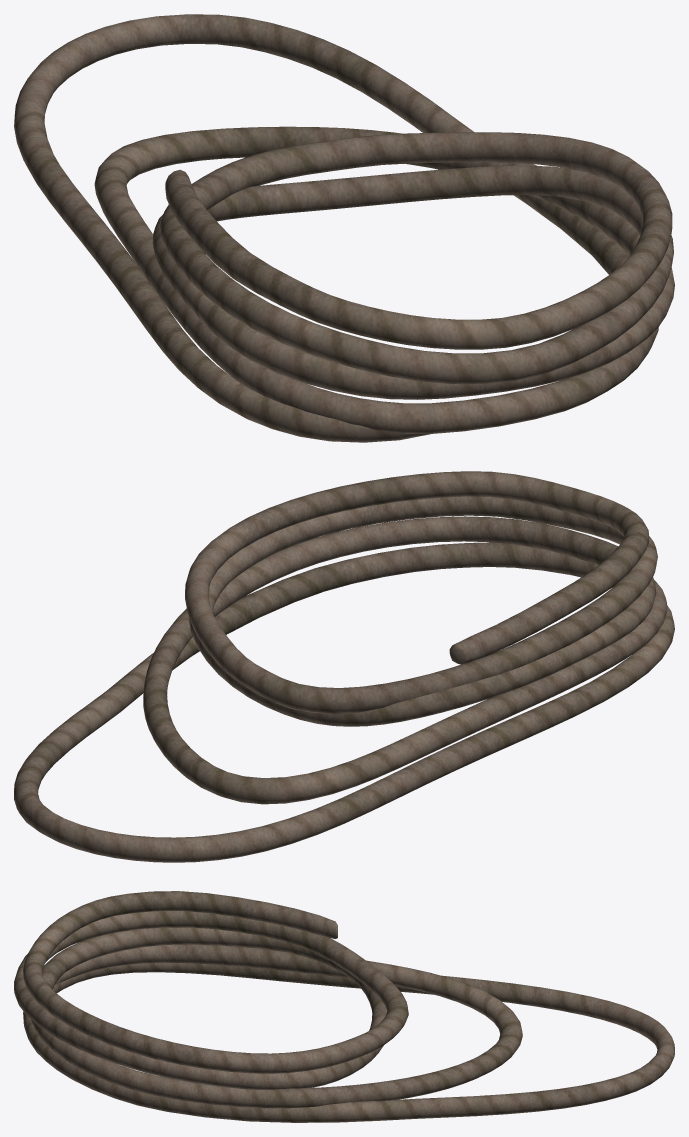
File: Rope_Coil01.fbx
3 views of the same model, one above another, from view 1: azimuth 30°, elevation 25°; view 2: azimuth 150°, elevation 25°; view 3: azimuth 270°, elevation 25° (orthographic). The views are drawn at different scales.
Visible parts, largest first — view 1: Rope_Coil01; view 2: Rope_Coil01; view 3: Rope_Coil01.
Boxes of the visible parts, left/top/right/bottom form: Rope_Coil01: left=14, top=14, right=674, bottom=442; Rope_Coil01: left=14, top=471, right=674, bottom=862; Rope_Coil01: left=14, top=891, right=674, bottom=1122.
Bounding box in the file's own units: 73.16 × 21.49 × 134.
